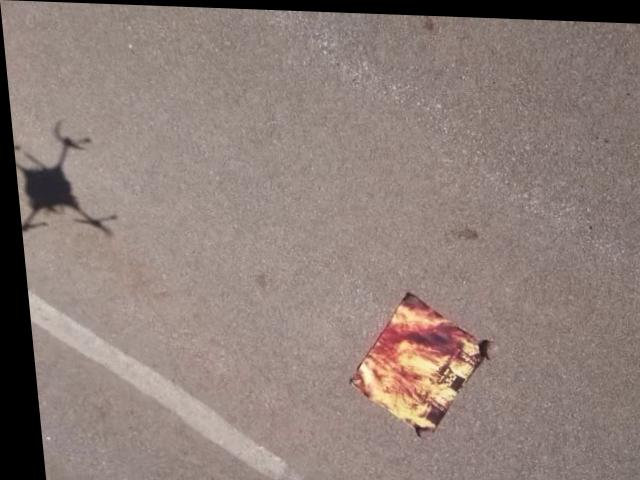fire-poster: (334, 285, 490, 440)
